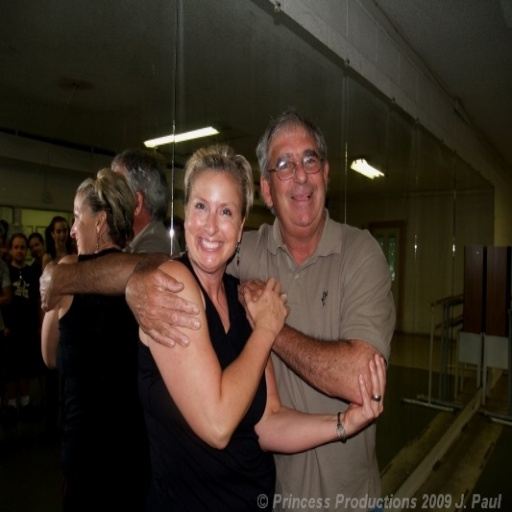hand: (121, 267, 199, 348), (341, 350, 384, 436), (238, 277, 267, 328)
